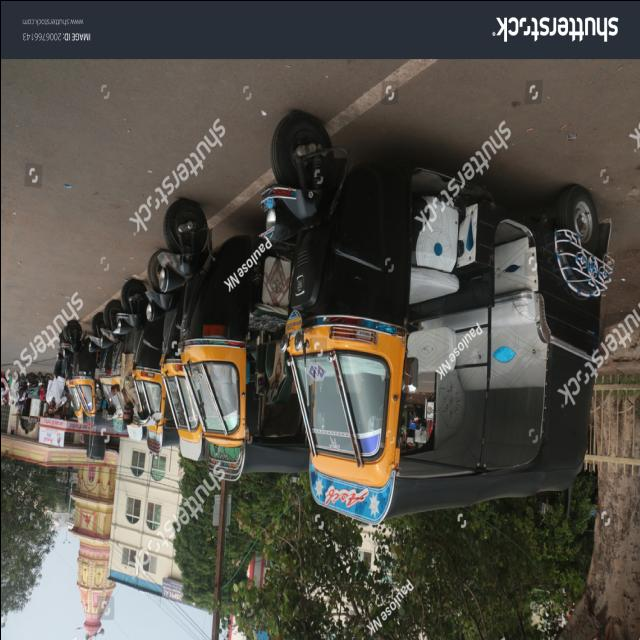Autorickshaw: (259, 87, 592, 524), (135, 177, 303, 480), (47, 272, 176, 451)
